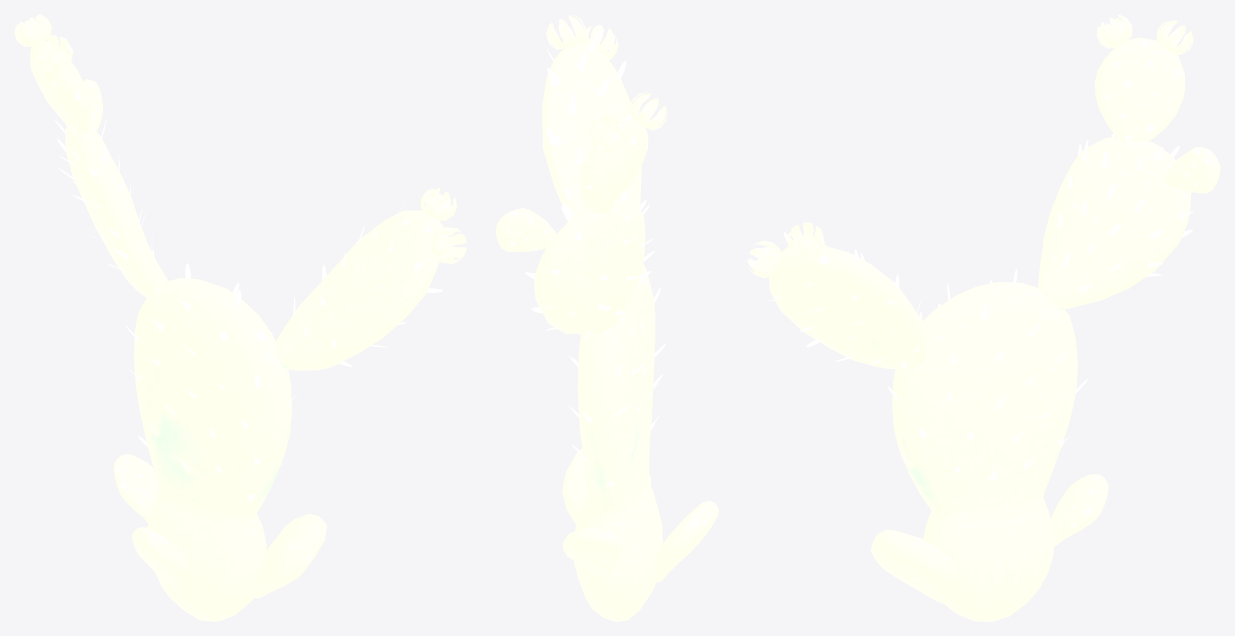
3 views of the same model, side by side, from view 1: azimuth 30°, elevation 25°; view 2: azimuth 150°, elevation 25°; view 3: azimuth 270°, elevation 25° (orthographic). The views are drawn at different scales.
Visible parts, largest first — view 1: SM_Cactus_Bunny_LOD0; view 2: SM_Cactus_Bunny_LOD0; view 3: SM_Cactus_Bunny_LOD0.
Part boxes in pixels (x1,y1,x2,y2): SM_Cactus_Bunny_LOD0: (14,14,466,621); SM_Cactus_Bunny_LOD0: (496,14,718,621); SM_Cactus_Bunny_LOD0: (747,14,1220,621).
Size of the model in its own units: 0.9214 by 1.87 by 1.43.
1 material, 1 textured.
